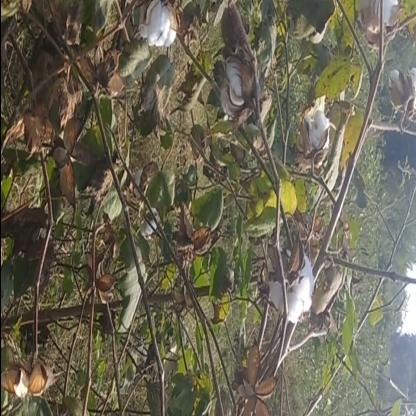cotton_ready: (270, 240, 314, 340), (136, 1, 182, 82)
